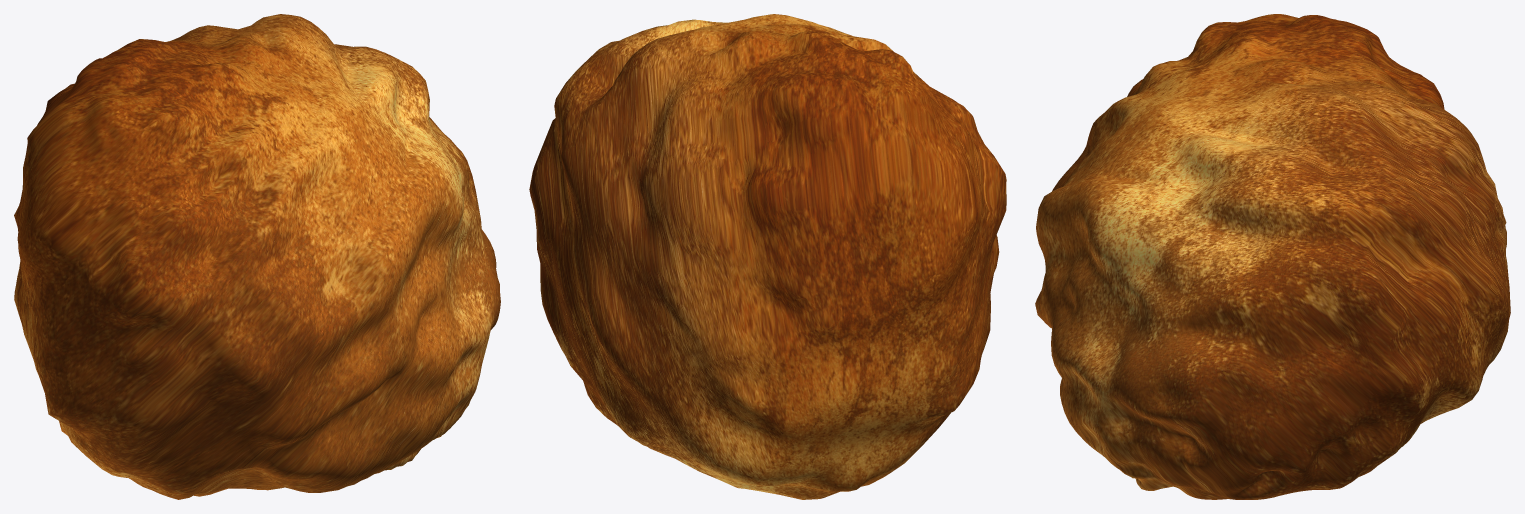
File: CopperFBX.fbx
3 renders of one model, left to right at view 1: azimuth 30°, elevation 25°; view 2: azimuth 150°, elevation 25°; view 3: azimuth 270°, elevation 25°, orthographic. The views are drawn at different scales.
Visible parts, largest first — view 1: pSphere2; view 2: pSphere2; view 3: pSphere2.
Part boxes in pixels (bbox=[...]): pSphere2: bbox=[14, 14, 500, 499]; pSphere2: bbox=[529, 14, 1006, 499]; pSphere2: bbox=[1035, 14, 1510, 499].
Bounding box in the file's own units: 9.59 × 9.43 × 9.64.
